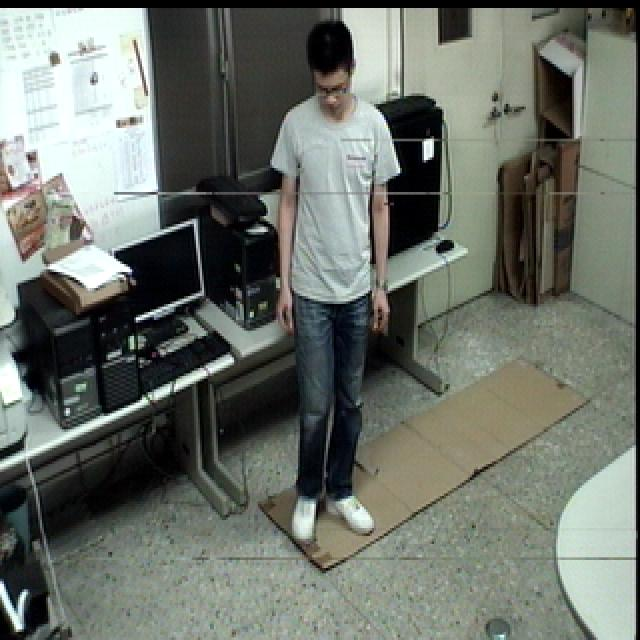stand: (266, 12, 404, 553)
